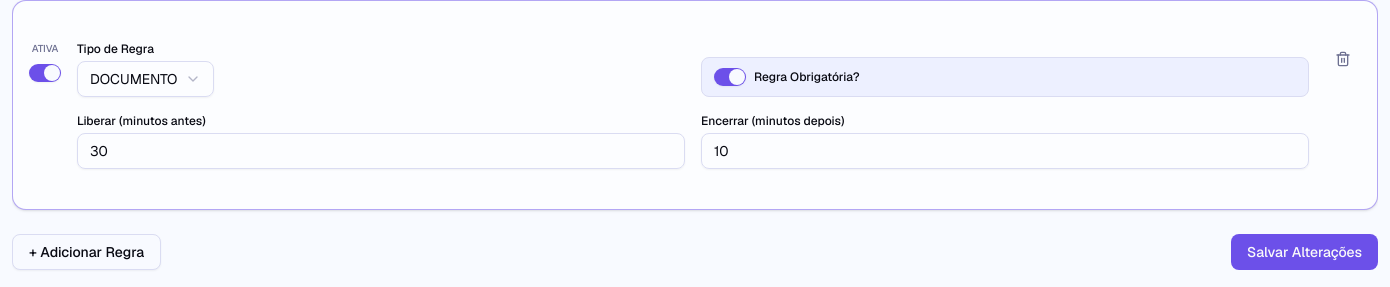
Test: RegrasEditor Integration Tests › removes a rule through the UI interaction
expect the text "DOCUMENTO" is shown: met, box [90, 69, 177, 89]
Click the 1st button: (1343, 59) [1325, 41, 1361, 77]
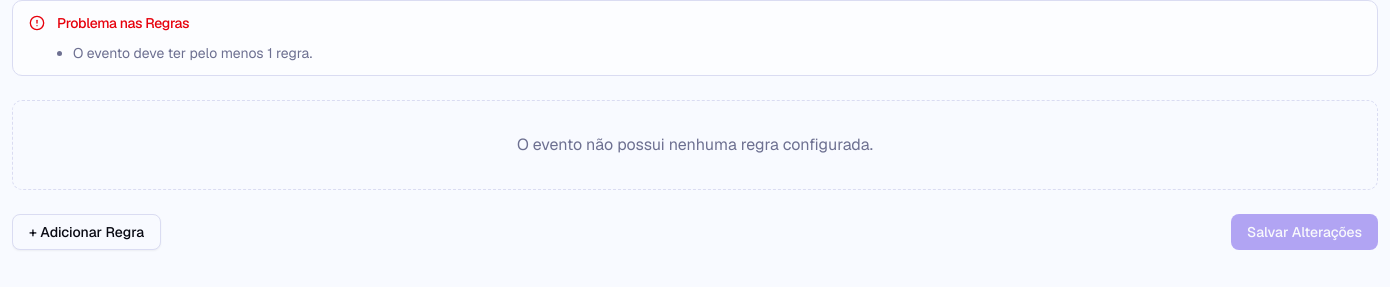
expect the text "O evento não possui nenhuma regra configurada." is shown: met, box [12, 100, 1378, 190]
